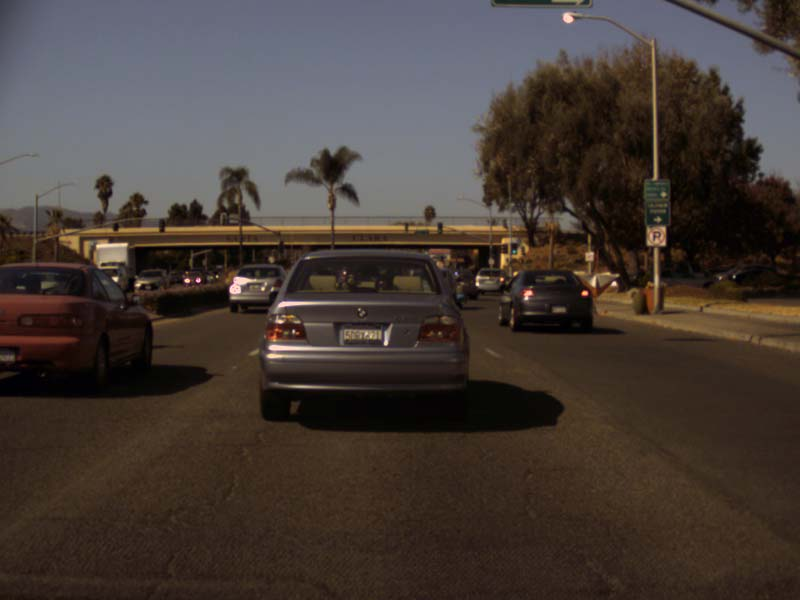Green: (510, 243, 516, 254), (489, 248, 495, 258), (437, 222, 442, 233)
